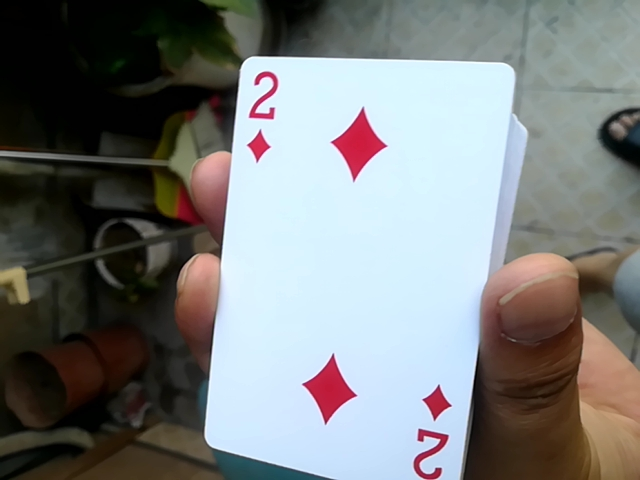fk 2: (196, 55, 491, 469)
